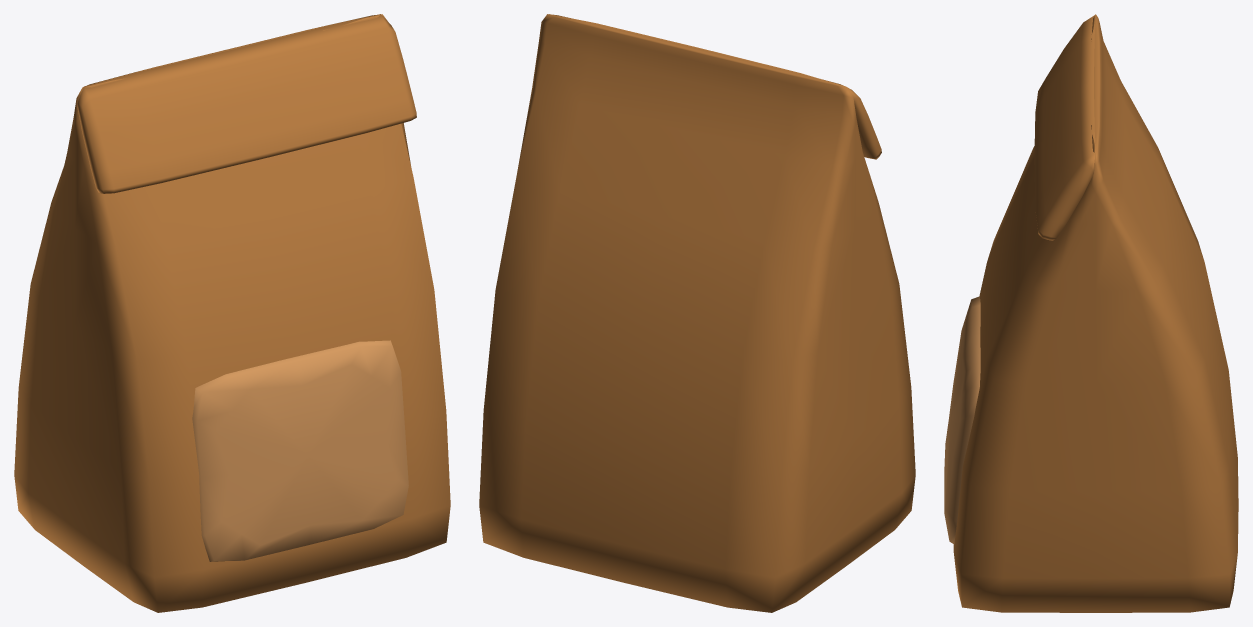
Rendered from SM_coffee_pack_yellow.glb.
3 views of the same model, side by side, from view 1: azimuth 30°, elevation 25°; view 2: azimuth 150°, elevation 25°; view 3: azimuth 270°, elevation 25° (orthographic). The views are drawn at different scales.
Parts seen in each view (by area): view 1: SM_coffee_pack_yellow; view 2: SM_coffee_pack_yellow; view 3: SM_coffee_pack_yellow.
Part boxes in pixels (bbox=[...]): SM_coffee_pack_yellow: bbox=[14, 14, 450, 612]; SM_coffee_pack_yellow: bbox=[479, 14, 915, 612]; SM_coffee_pack_yellow: bbox=[944, 14, 1238, 612].
Size of the model in its own units: 0.2654 by 0.3941 by 0.2238.
Materials: 1 (1 with a texture image).
